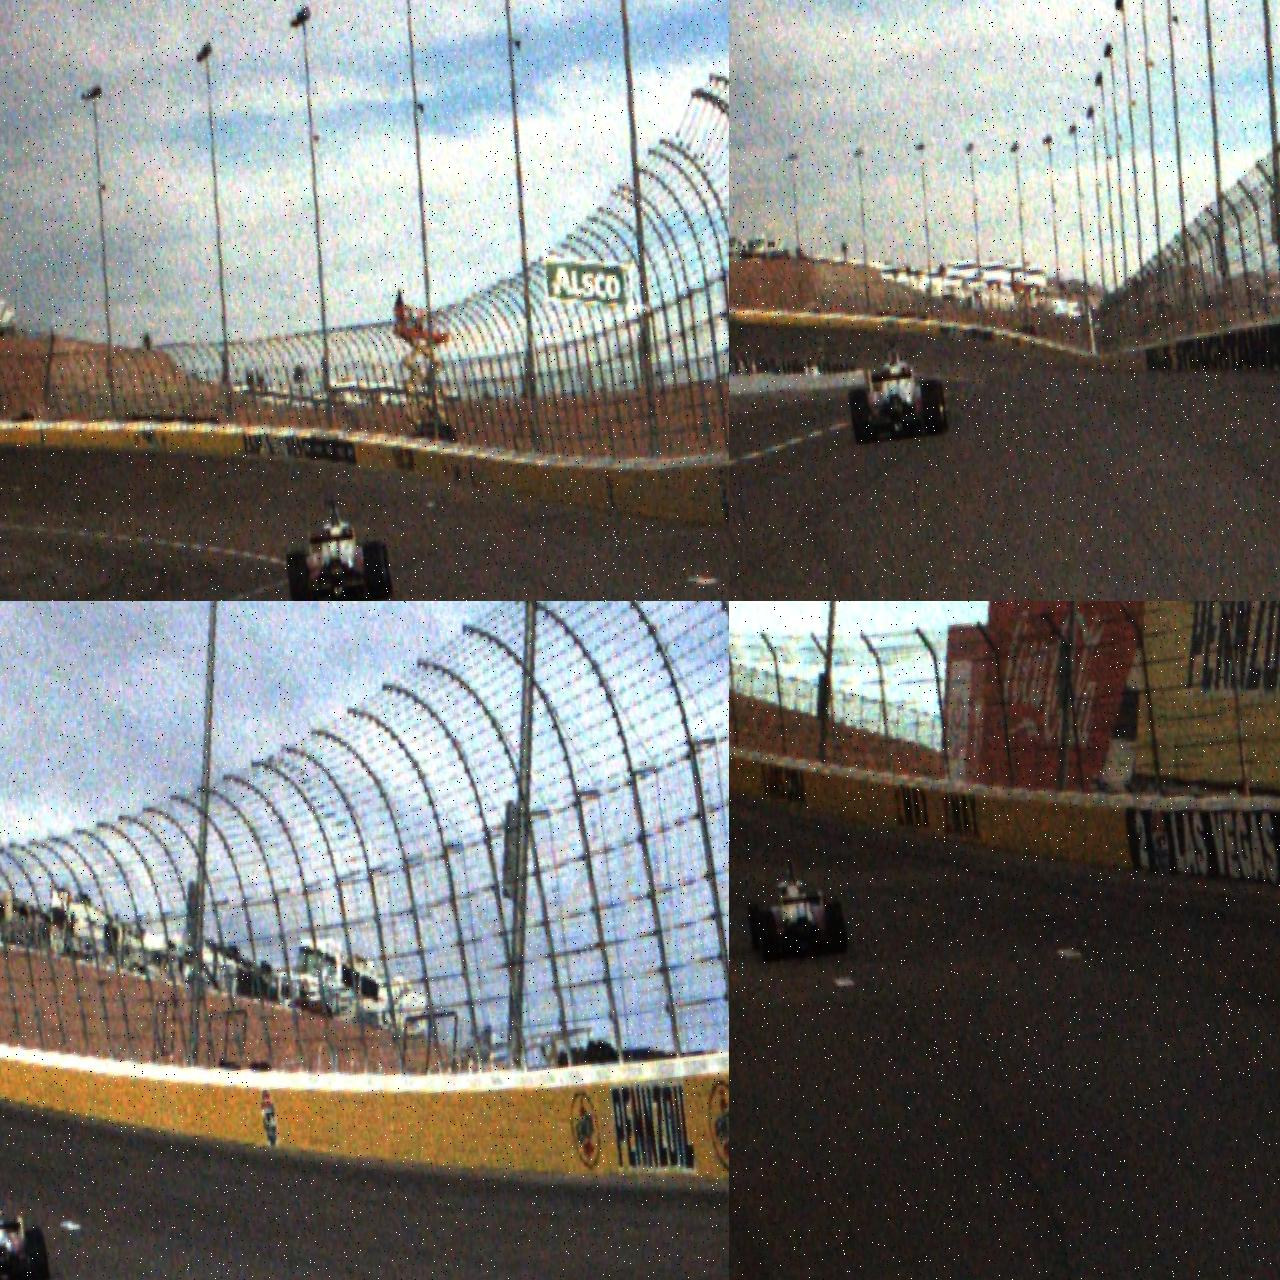AV: (279, 491, 394, 601), (741, 851, 849, 966), (843, 332, 949, 445), (0, 1177, 52, 1280)
Wheel: (362, 542, 388, 600), (920, 379, 946, 436), (25, 1227, 52, 1280), (849, 388, 873, 445), (756, 910, 781, 964), (824, 901, 849, 955), (288, 551, 314, 601), (745, 903, 765, 953)
